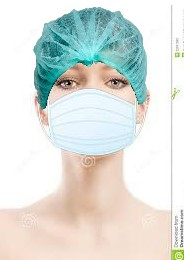with_mask_and_cap: (35, 8, 147, 157)
